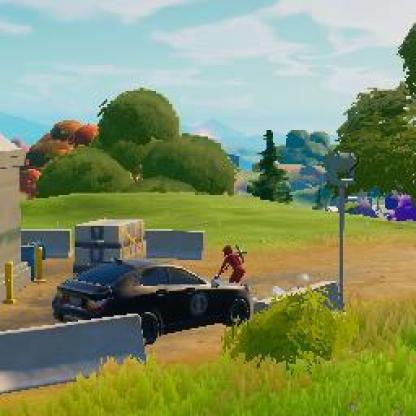dumpster: (215, 244, 247, 282)
